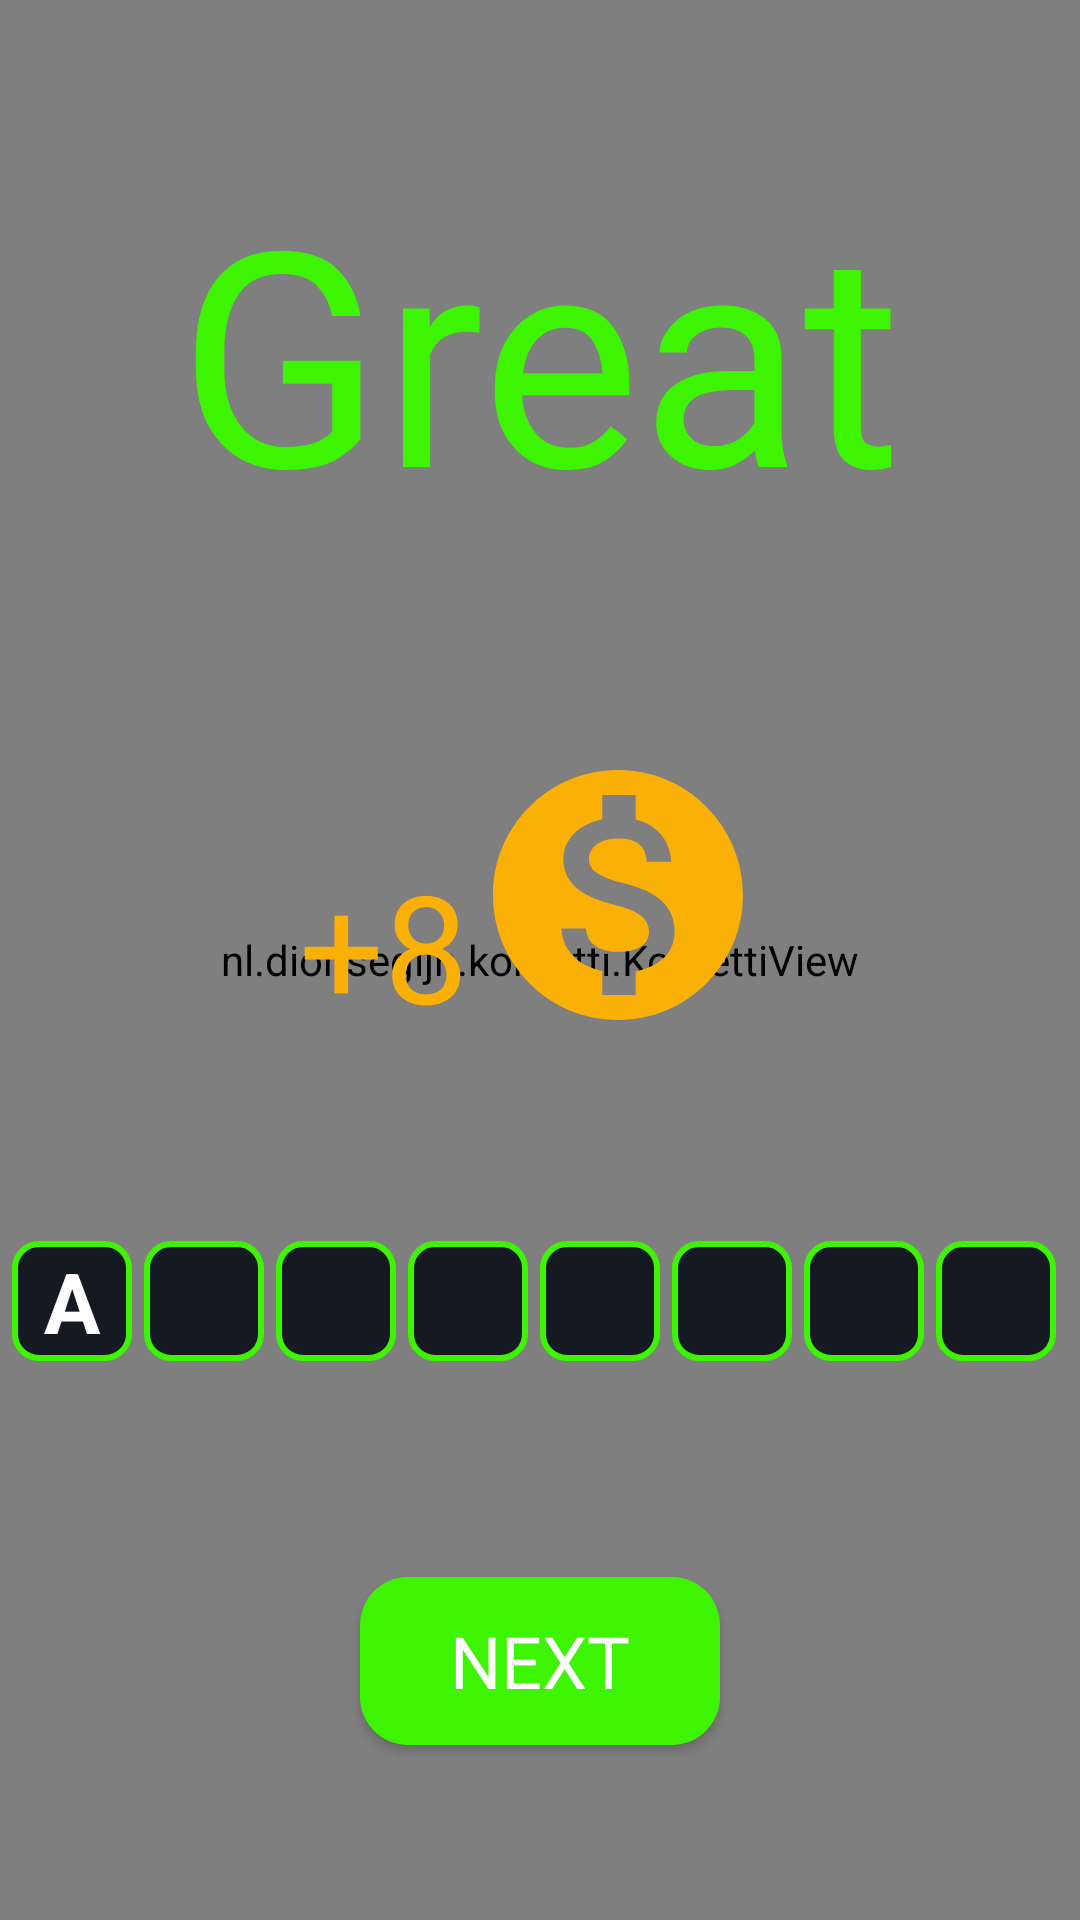

Where icons sit on this 1080px x 1920px app screen, as (x1, y1, x2, y2):
coin: (471, 770, 766, 1020)
